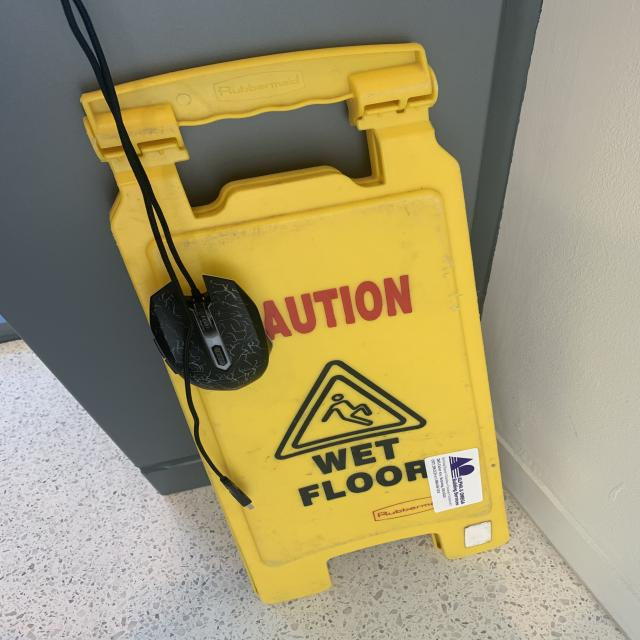Mouse: (138, 270, 284, 396)
